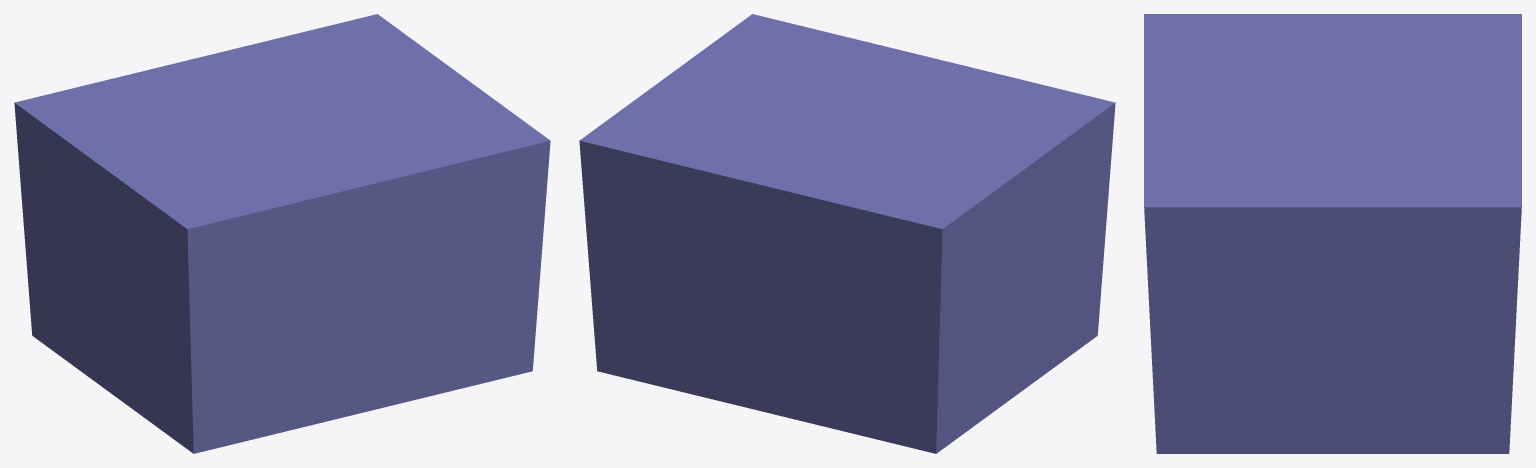
Rendered from sm_Ottoman.fbx.
The picture shows the model from 3 angles, left to right: view 1: azimuth 30°, elevation 25°; view 2: azimuth 150°, elevation 25°; view 3: azimuth 270°, elevation 25°; orthographic projection. The views are drawn at different scales.
Parts seen in each view (by area): view 1: sm_Ottoman; view 2: sm_Ottoman; view 3: sm_Ottoman.
Boxes of the visible parts, bbox=[...] form: sm_Ottoman: bbox=[14, 14, 550, 453]; sm_Ottoman: bbox=[579, 14, 1115, 453]; sm_Ottoman: bbox=[1144, 14, 1521, 453].
Bounding box in the file's own units: 0.6916 × 0.422 × 0.5709.
